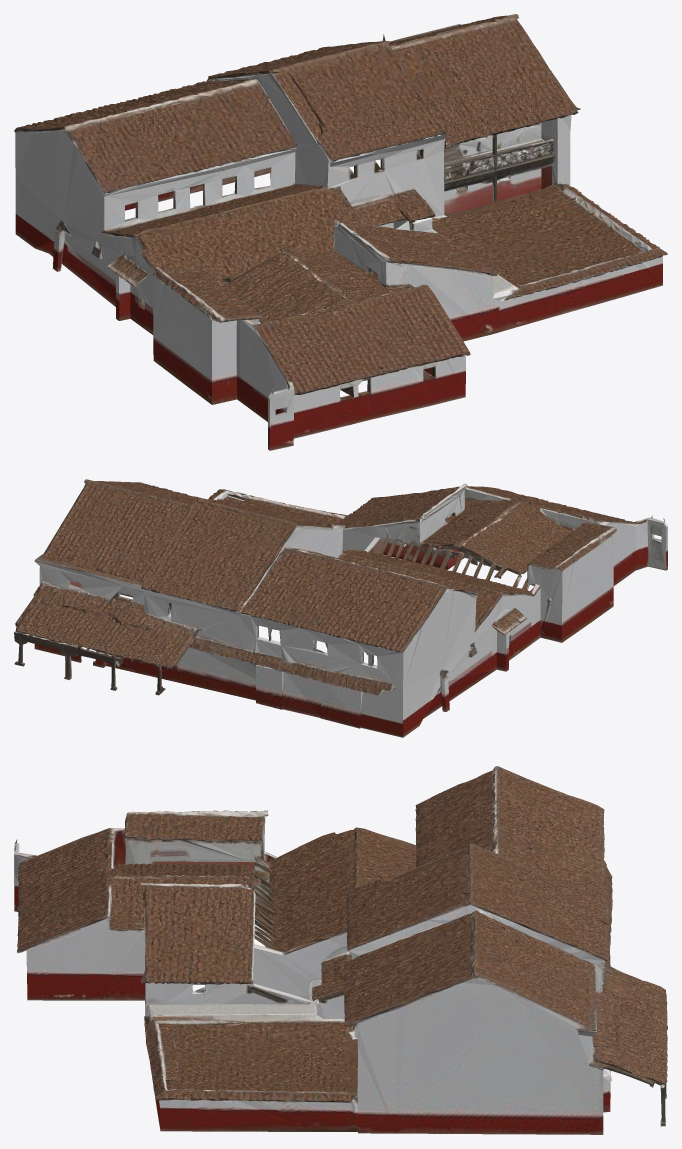
Rendered from craftsmen_houses_xanten_a.meshy.reduced.glb.
3 renders of one model, top to bottom at view 1: azimuth 30°, elevation 25°; view 2: azimuth 150°, elevation 25°; view 3: azimuth 270°, elevation 25°, orthographic. The views are drawn at different scales.
Size of the model in its own units: 1.62 by 0.5579 by 1.89.
1 material, 1 textured.
